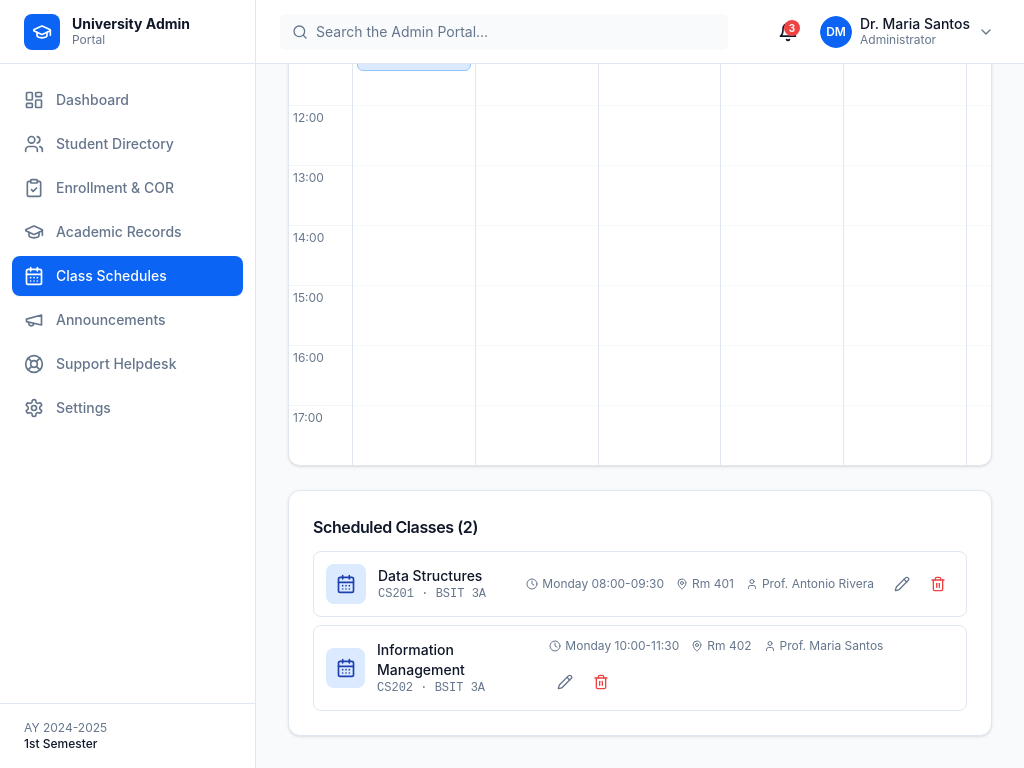
Test: class schedules: edit and delete › deletes a class only after confirmation
(page scrolled)
Click the button named "Delete CS202 for BSIT 3A on Monday": point(601, 682) [585,666,617,698]
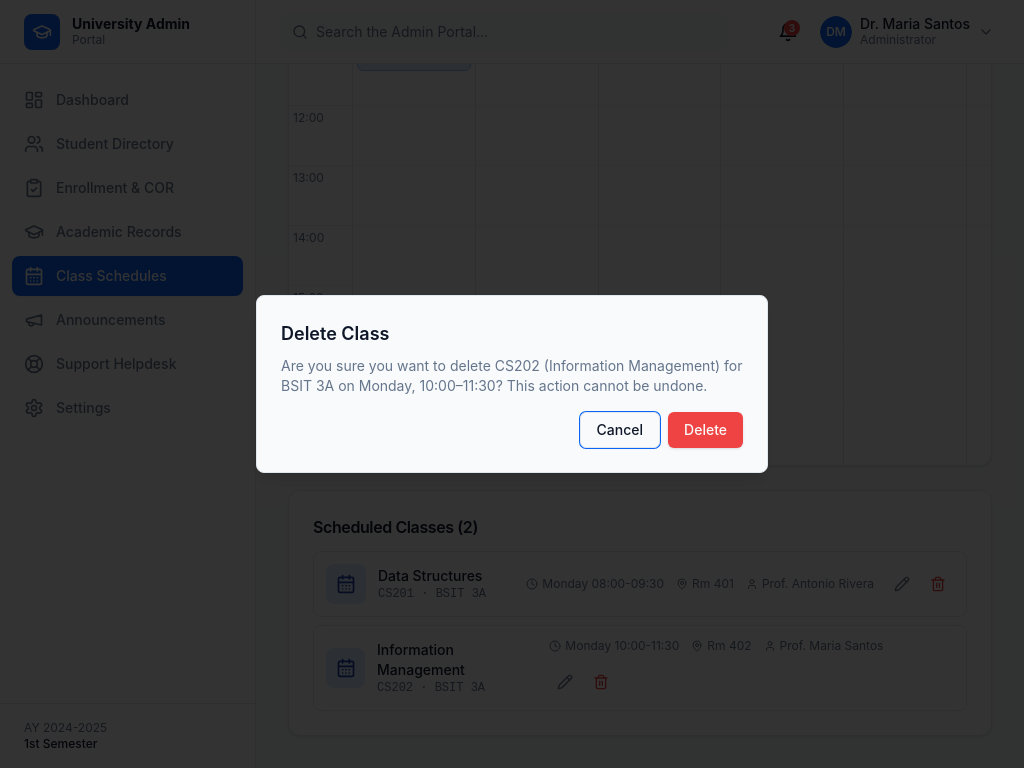
Now the text "Information Management" is shown, box [549,357,715,374]
Click the button "Cancel": point(620, 430) [580,412,660,448]
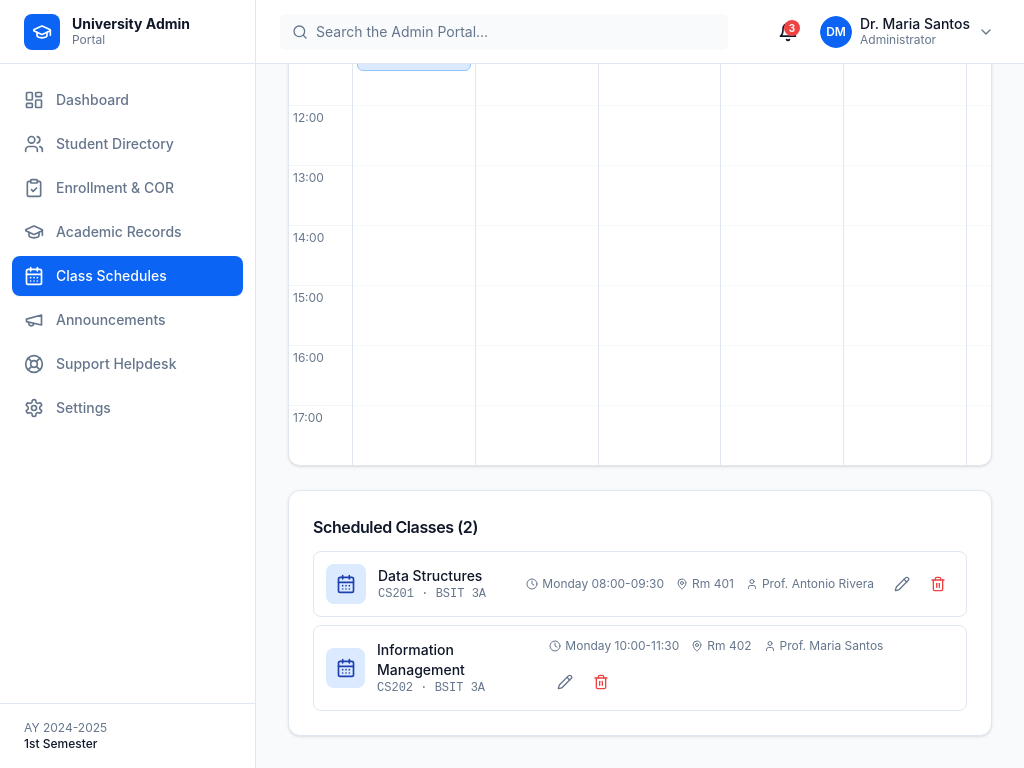
Click the button named "Delete CS202 for BSIT 3A on Monday": point(601, 682) [585,666,617,698]
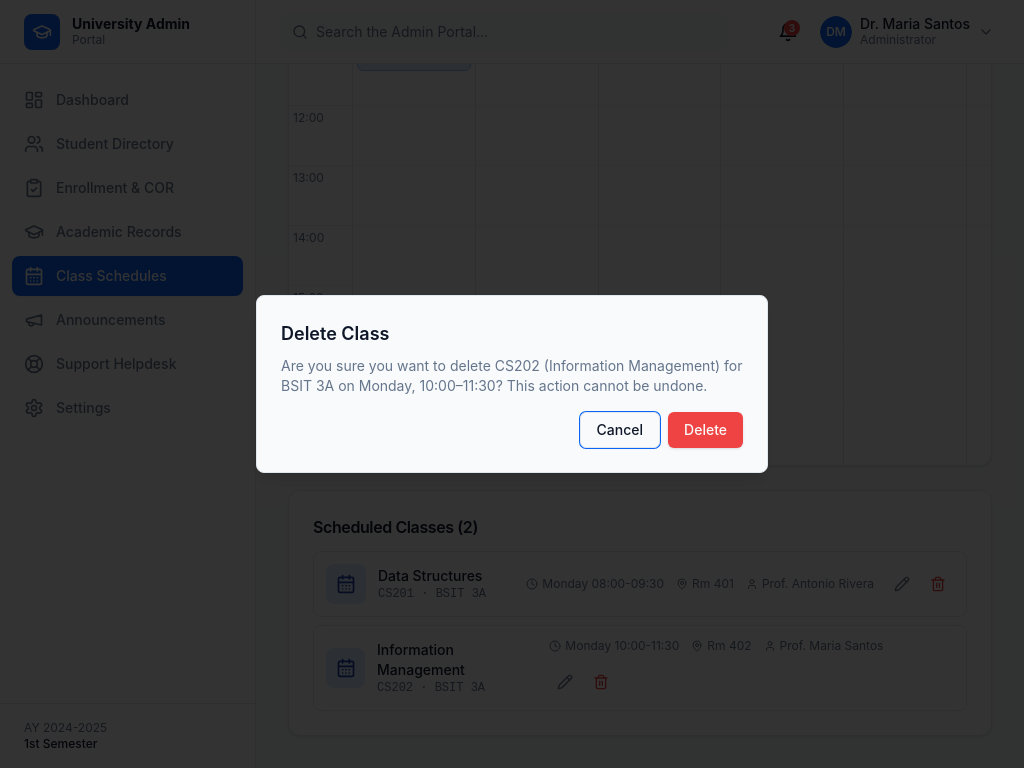
Click the button "Delete": point(706, 430) [668,412,743,448]
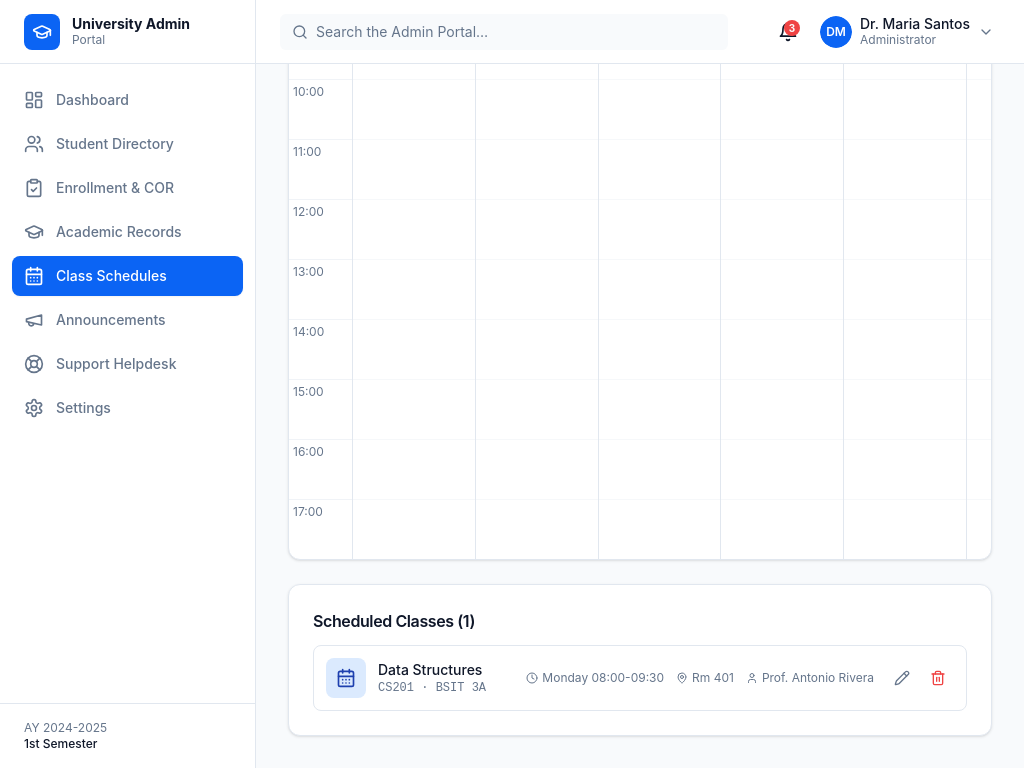
Now the text "Information Management" is gone
Now the text "Scheduled Classes (1)" is shown, box [313,611,475,631]
